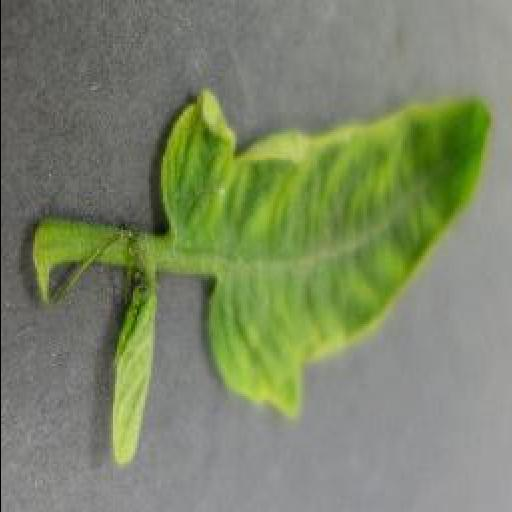disease_tomato: (154, 88, 496, 422), (110, 285, 152, 471)
